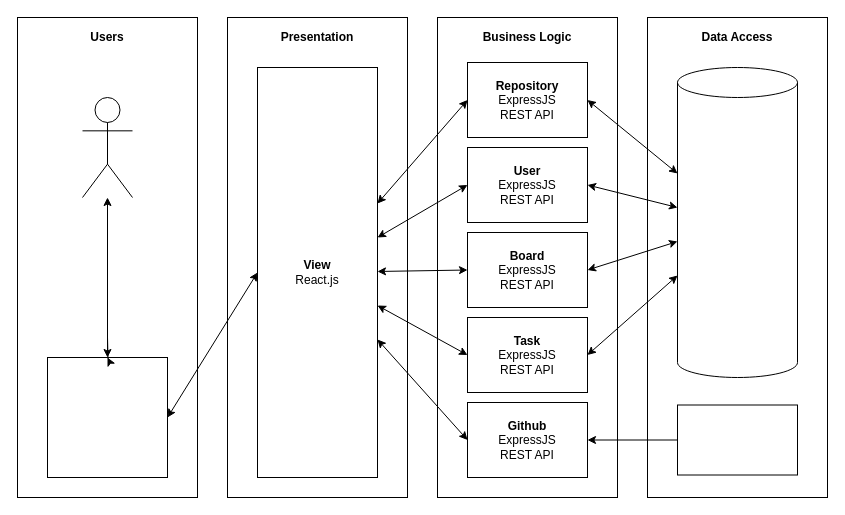
Image size: 845x515. Some labels were removed from this diagram. Here are the shapes that lost their labels. From the top down, the centre of each, then its label:
At pixel 737 222: "Database".
At pixel 107 417: "Client Web Browser".
At pixel 737 439: "Repository Events Driver GitHub WebHook".
